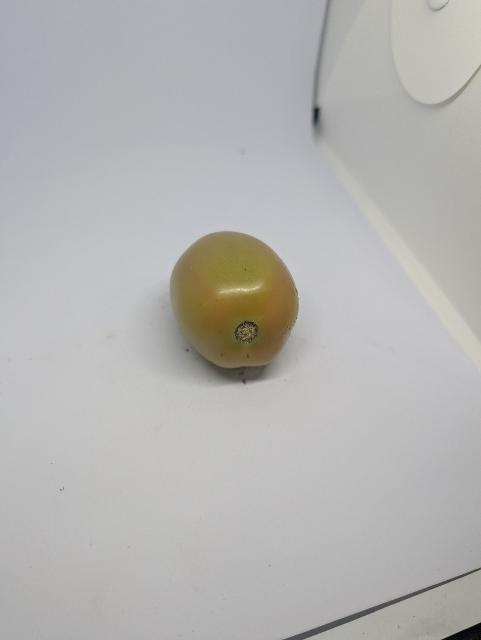breaker: (166, 227, 304, 387)
